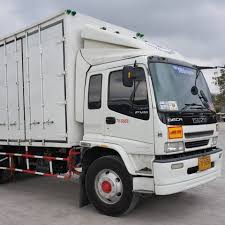truck: (68, 11, 220, 217)
